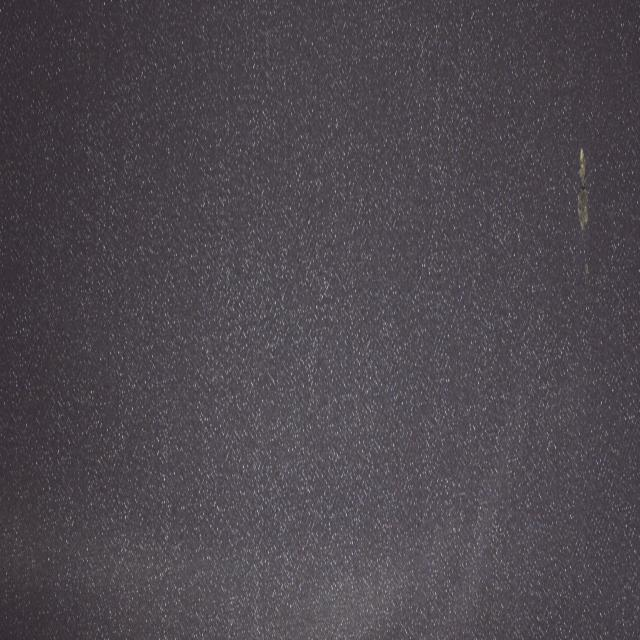Knot: (579, 147, 591, 282)
